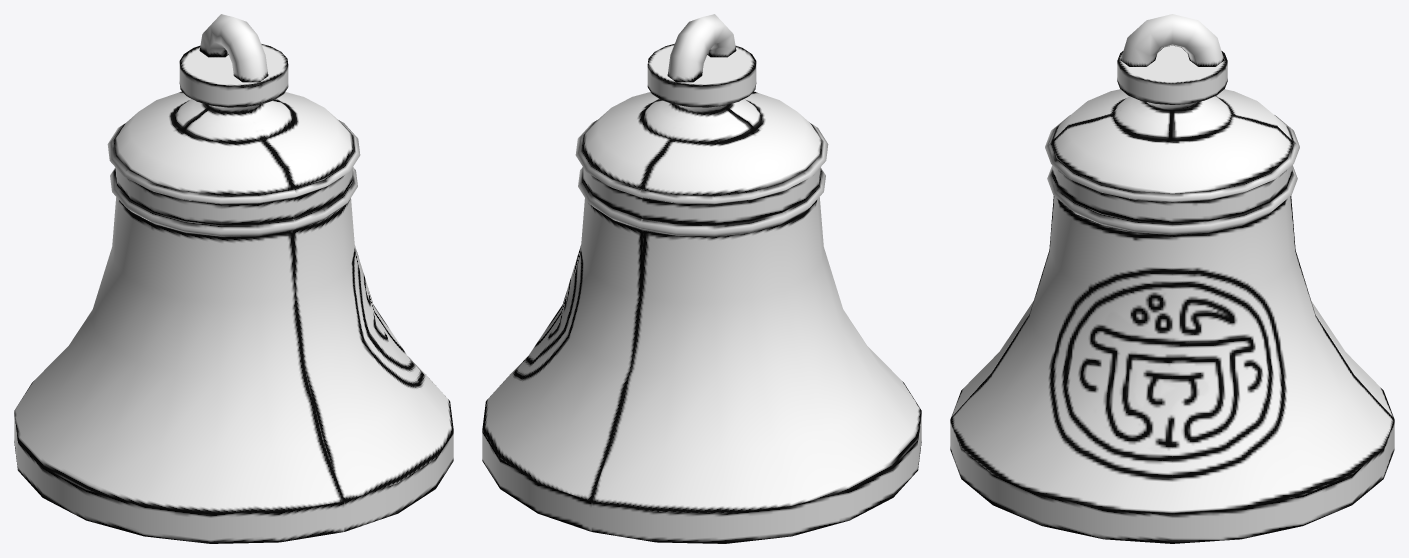
The model's file is Bell1.glb.
3 views of the same model, side by side, from view 1: azimuth 30°, elevation 25°; view 2: azimuth 150°, elevation 25°; view 3: azimuth 270°, elevation 25° (orthographic).
Parts seen in each view (by area): view 1: Bell1; view 2: Bell1; view 3: Bell1.
Part boxes in pixels (left/top/right/bottom): Bell1: left=14, top=14, right=453, bottom=543; Bell1: left=482, top=14, right=921, bottom=543; Bell1: left=950, top=14, right=1394, bottom=543.
Bounding box in the file's own units: 3.5 × 4.1 × 3.5.
Materials: 1 (1 with a texture image).
